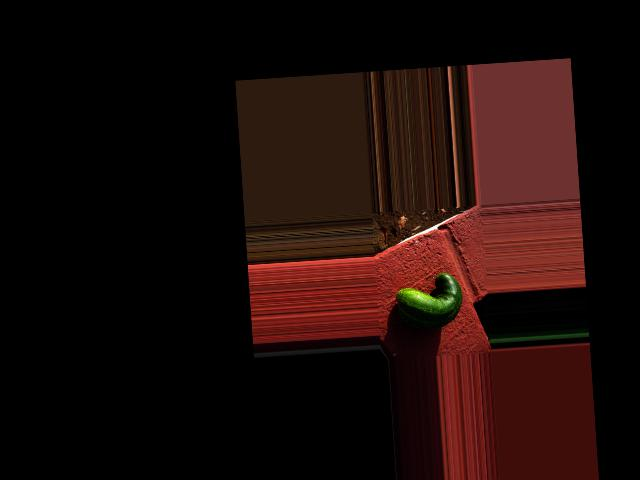cucumber: (394, 270, 464, 331)
